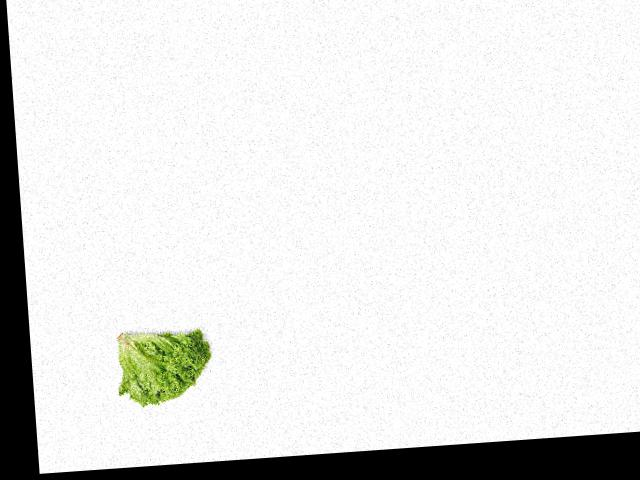lettuce: (110, 318, 219, 413)
